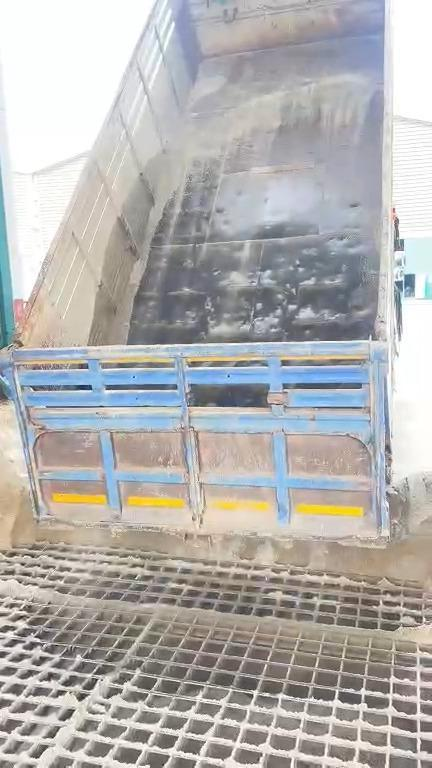sand: (137, 76, 375, 276), (1, 473, 432, 579), (1, 580, 432, 647), (42, 667, 119, 767), (109, 282, 137, 341), (197, 77, 225, 99)
